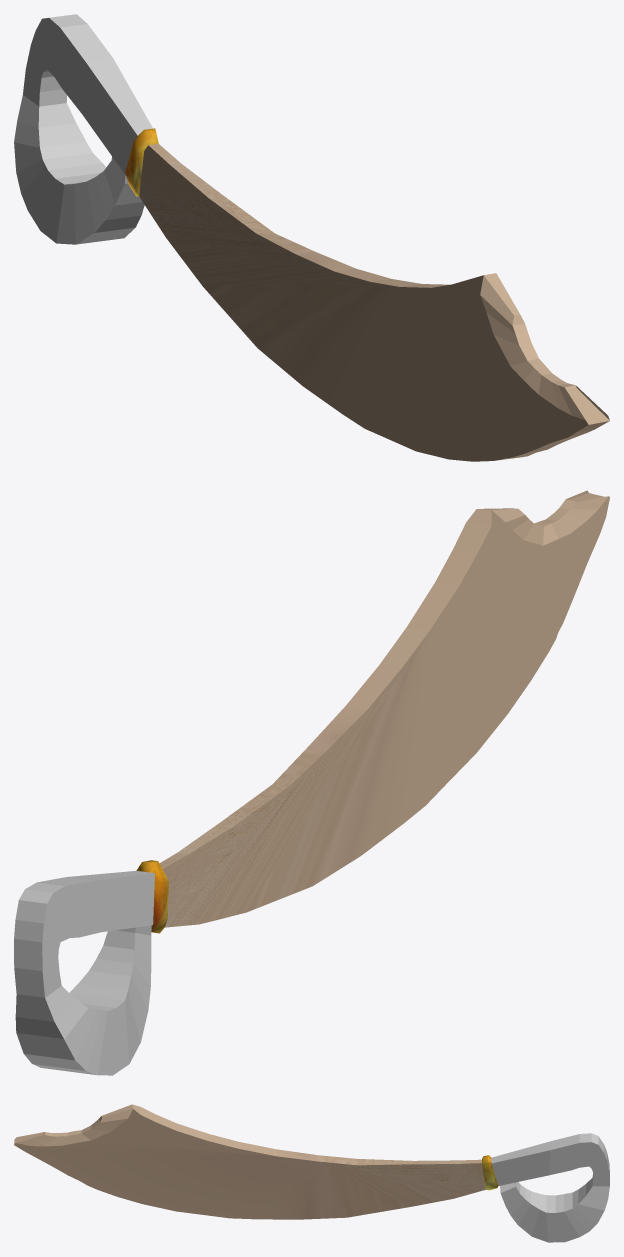
File: Sabre pirate.fbx
3 views of the same model, one above another, from view 1: azimuth 30°, elevation 25°; view 2: azimuth 150°, elevation 25°; view 3: azimuth 270°, elevation 25° (orthographic). The views are drawn at different scales.
Parts seen in each view (by area): view 1: Cube.002; view 2: Cube.002; view 3: Cube.002.
Boxes of the visible parts, bbox=[...] form: Cube.002: bbox=[14, 14, 609, 461]; Cube.002: bbox=[14, 490, 609, 1075]; Cube.002: bbox=[14, 1104, 609, 1242].
Size of the model in its own units: 58.03 by 227 by 918.
